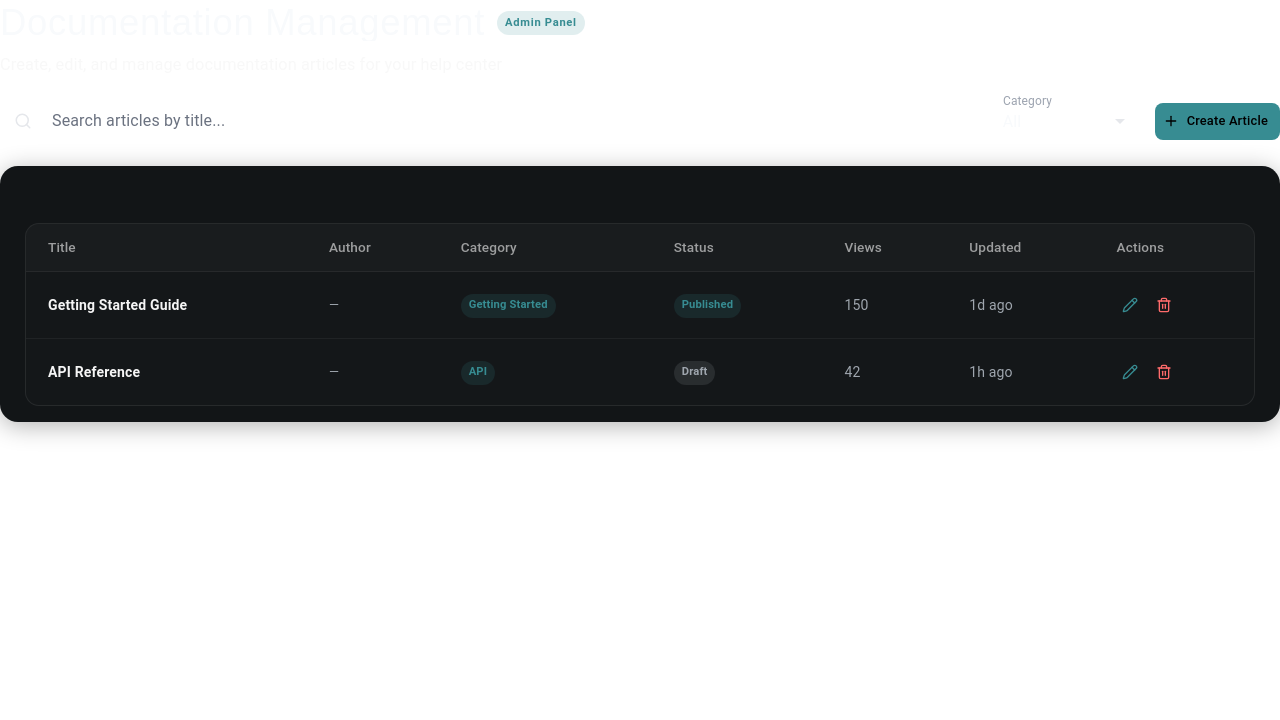
Test: ManageDocs › Edit button opens dialog pre-populated with article data
This screenshot has width=1280, height=720.
Expected: the text "Getting Started Guide" is shown, x1=48 y1=297 x2=187 y2=313
Click the button named "edit" in the row of "Getting Started Guide". click: (1130, 305)
box: x1=1117 y1=292 x2=1143 y2=318
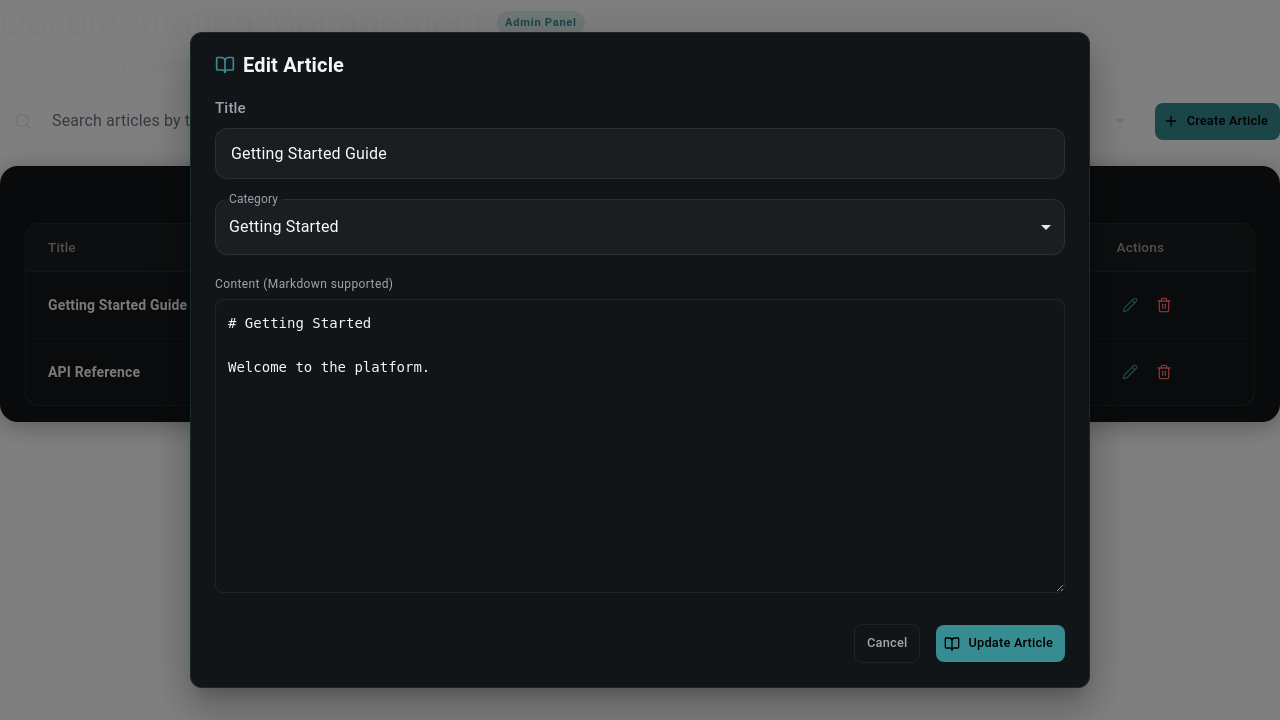
Expected: the element with test id "article-dialog" is shown
Expected: the field showing "Getting Started Guide" is shown, x1=215 y1=128 x2=1065 y2=179
